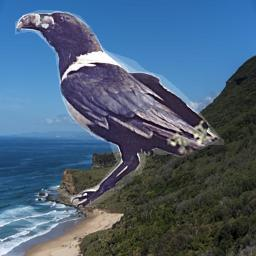Crow: (15, 10, 225, 207)
